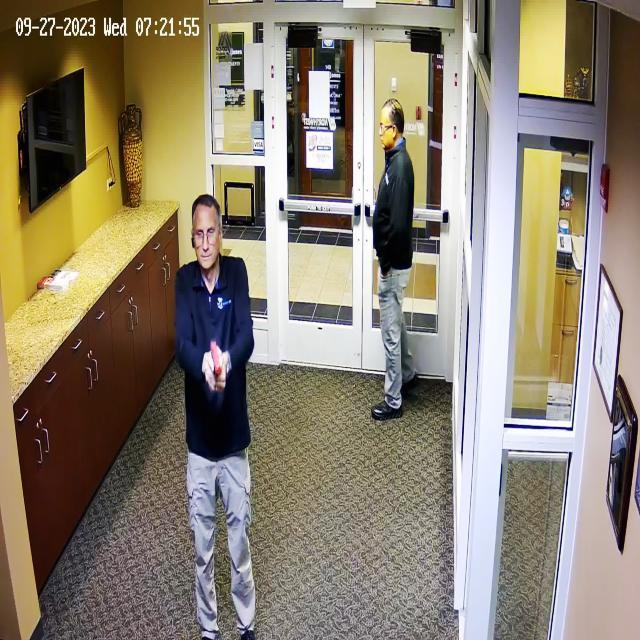Gun: (199, 332, 239, 406)
